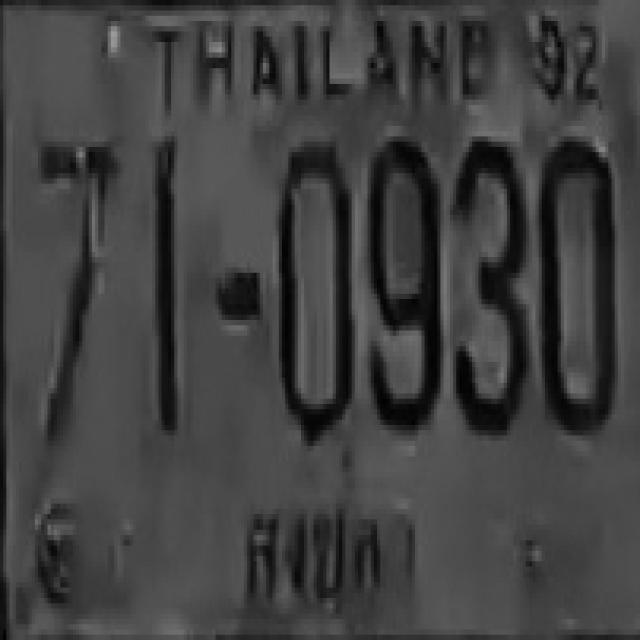0: (276, 134, 352, 438), (536, 134, 614, 428)
1: (154, 131, 176, 430)
3: (452, 131, 524, 430)
7: (38, 136, 117, 441)
9: (364, 131, 440, 425)
Songkhla: (239, 481, 429, 616)
